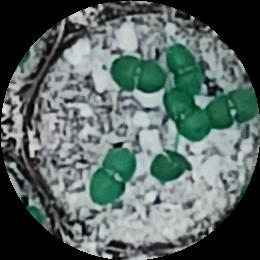Basil: (90, 149, 134, 205), (164, 92, 209, 144), (205, 88, 259, 129), (112, 55, 165, 94), (167, 44, 203, 95), (151, 151, 194, 181)
